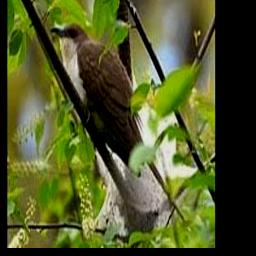Cuckoo: (50, 23, 184, 219)
